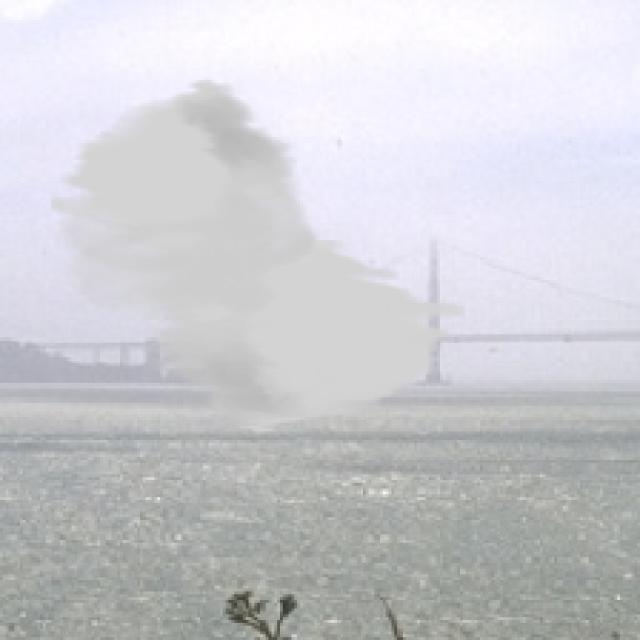Smoke: (48, 77, 466, 434)
